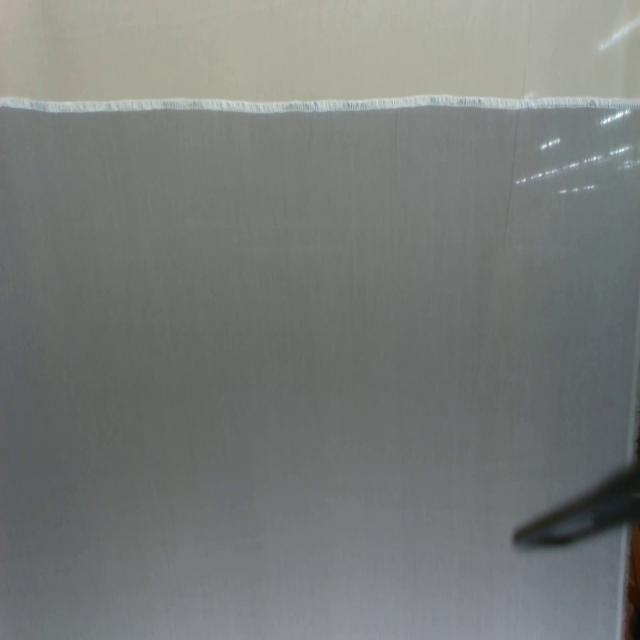crease: (501, 66, 531, 251)
